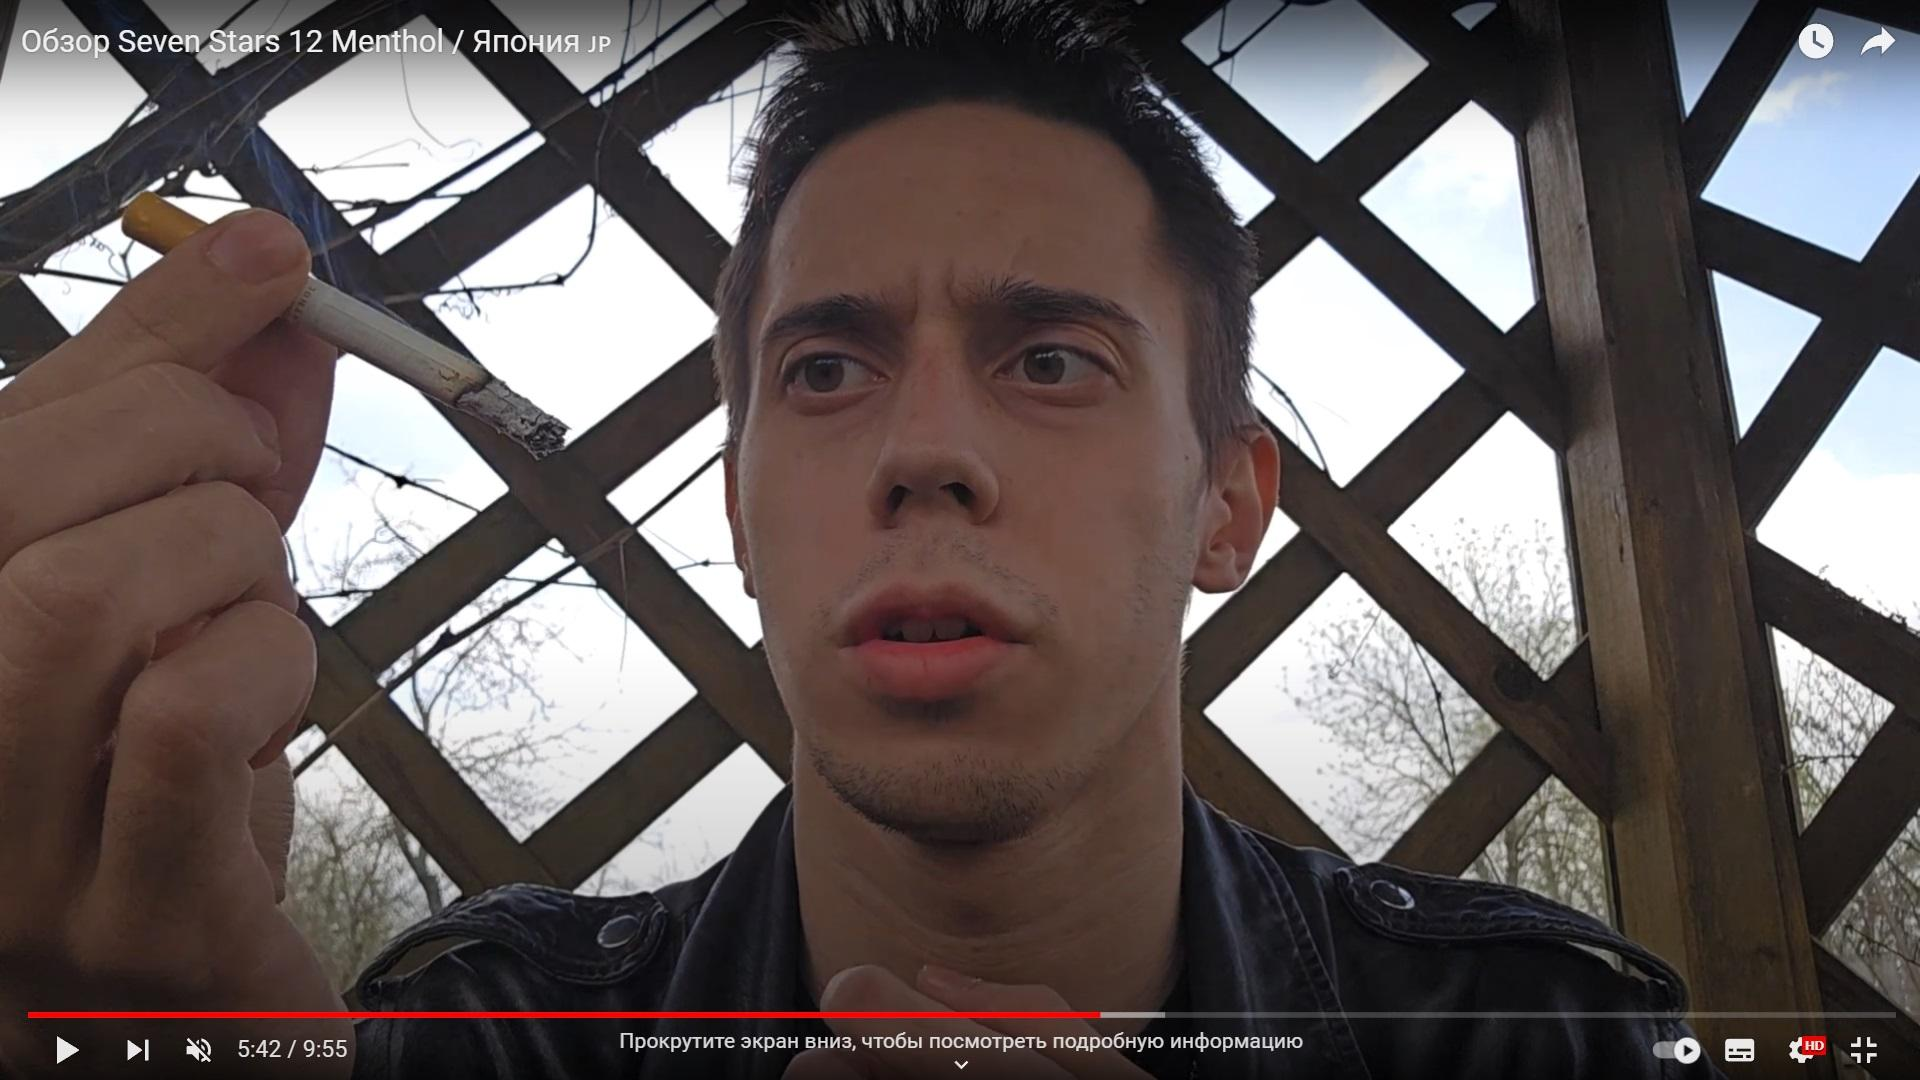cigarette: (119, 190, 568, 454)
